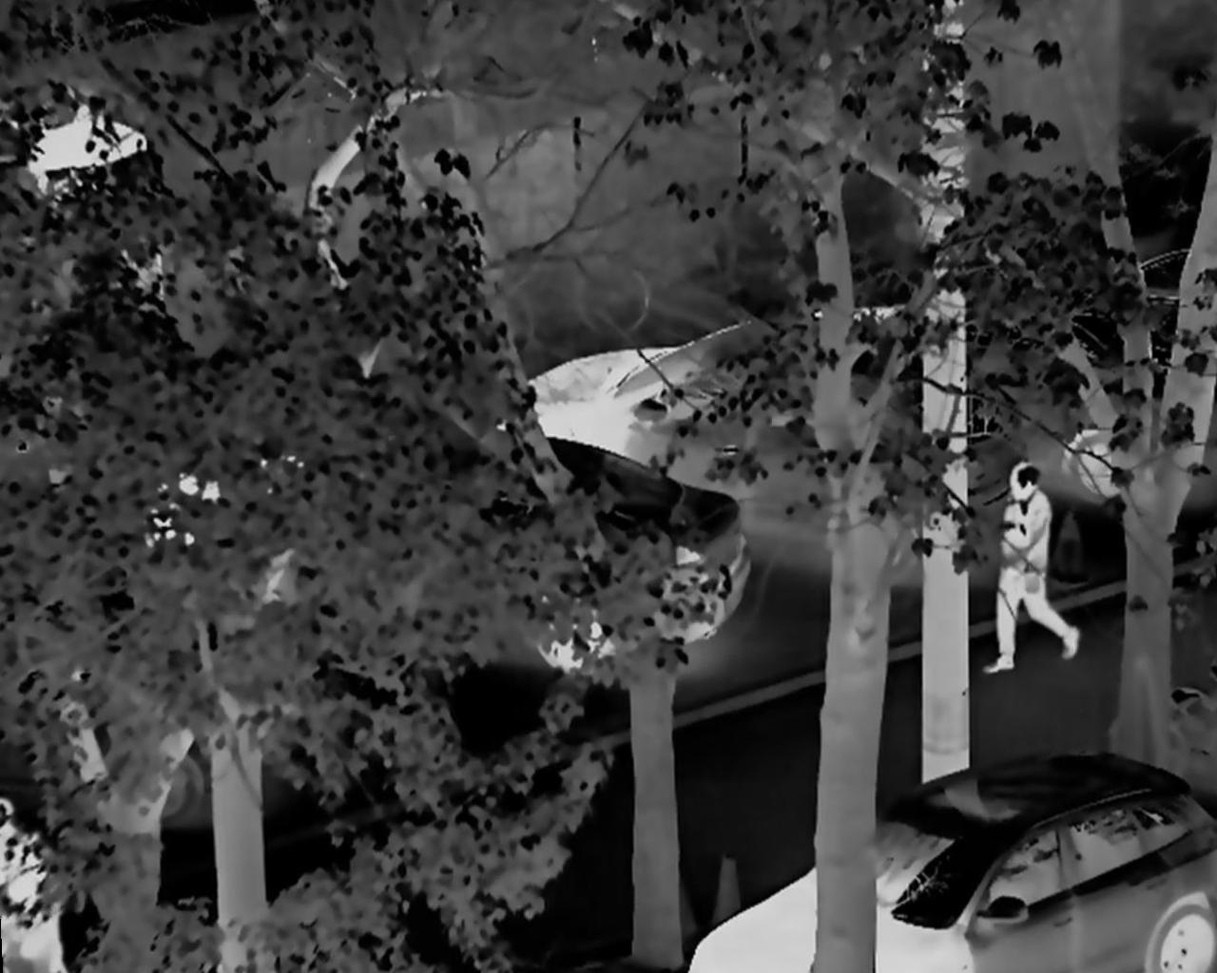person: (983, 461, 1081, 677)
